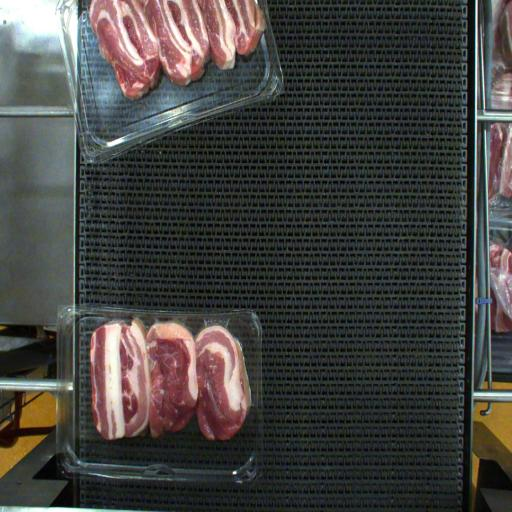packaging-error: (96, 293, 250, 340)
